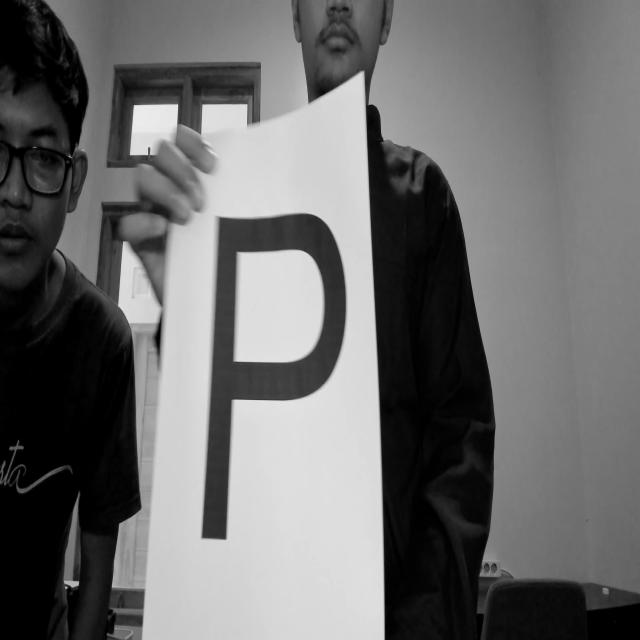p: (194, 190, 374, 590)
